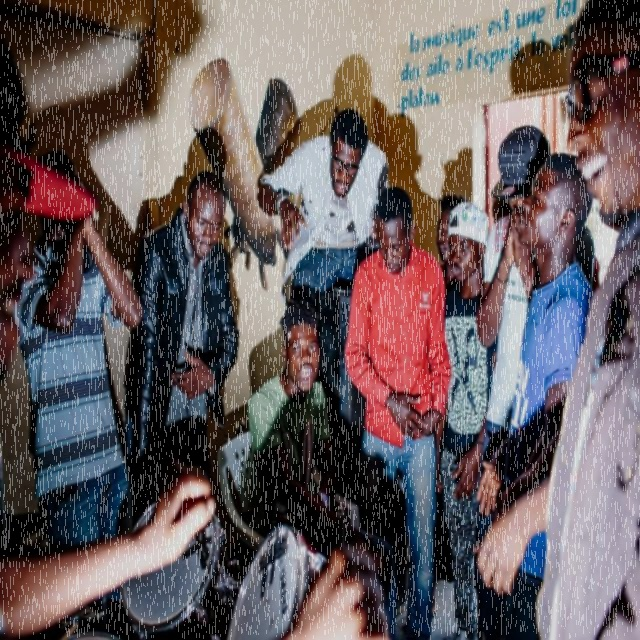pessoa: (6, 127, 150, 639), (473, 122, 600, 639), (471, 149, 595, 639), (244, 296, 398, 639), (340, 177, 454, 639), (122, 167, 240, 528), (0, 462, 216, 639), (434, 200, 499, 639), (257, 107, 392, 294), (1, 98, 58, 464), (286, 539, 390, 639), (436, 190, 468, 300), (384, 108, 426, 190)
